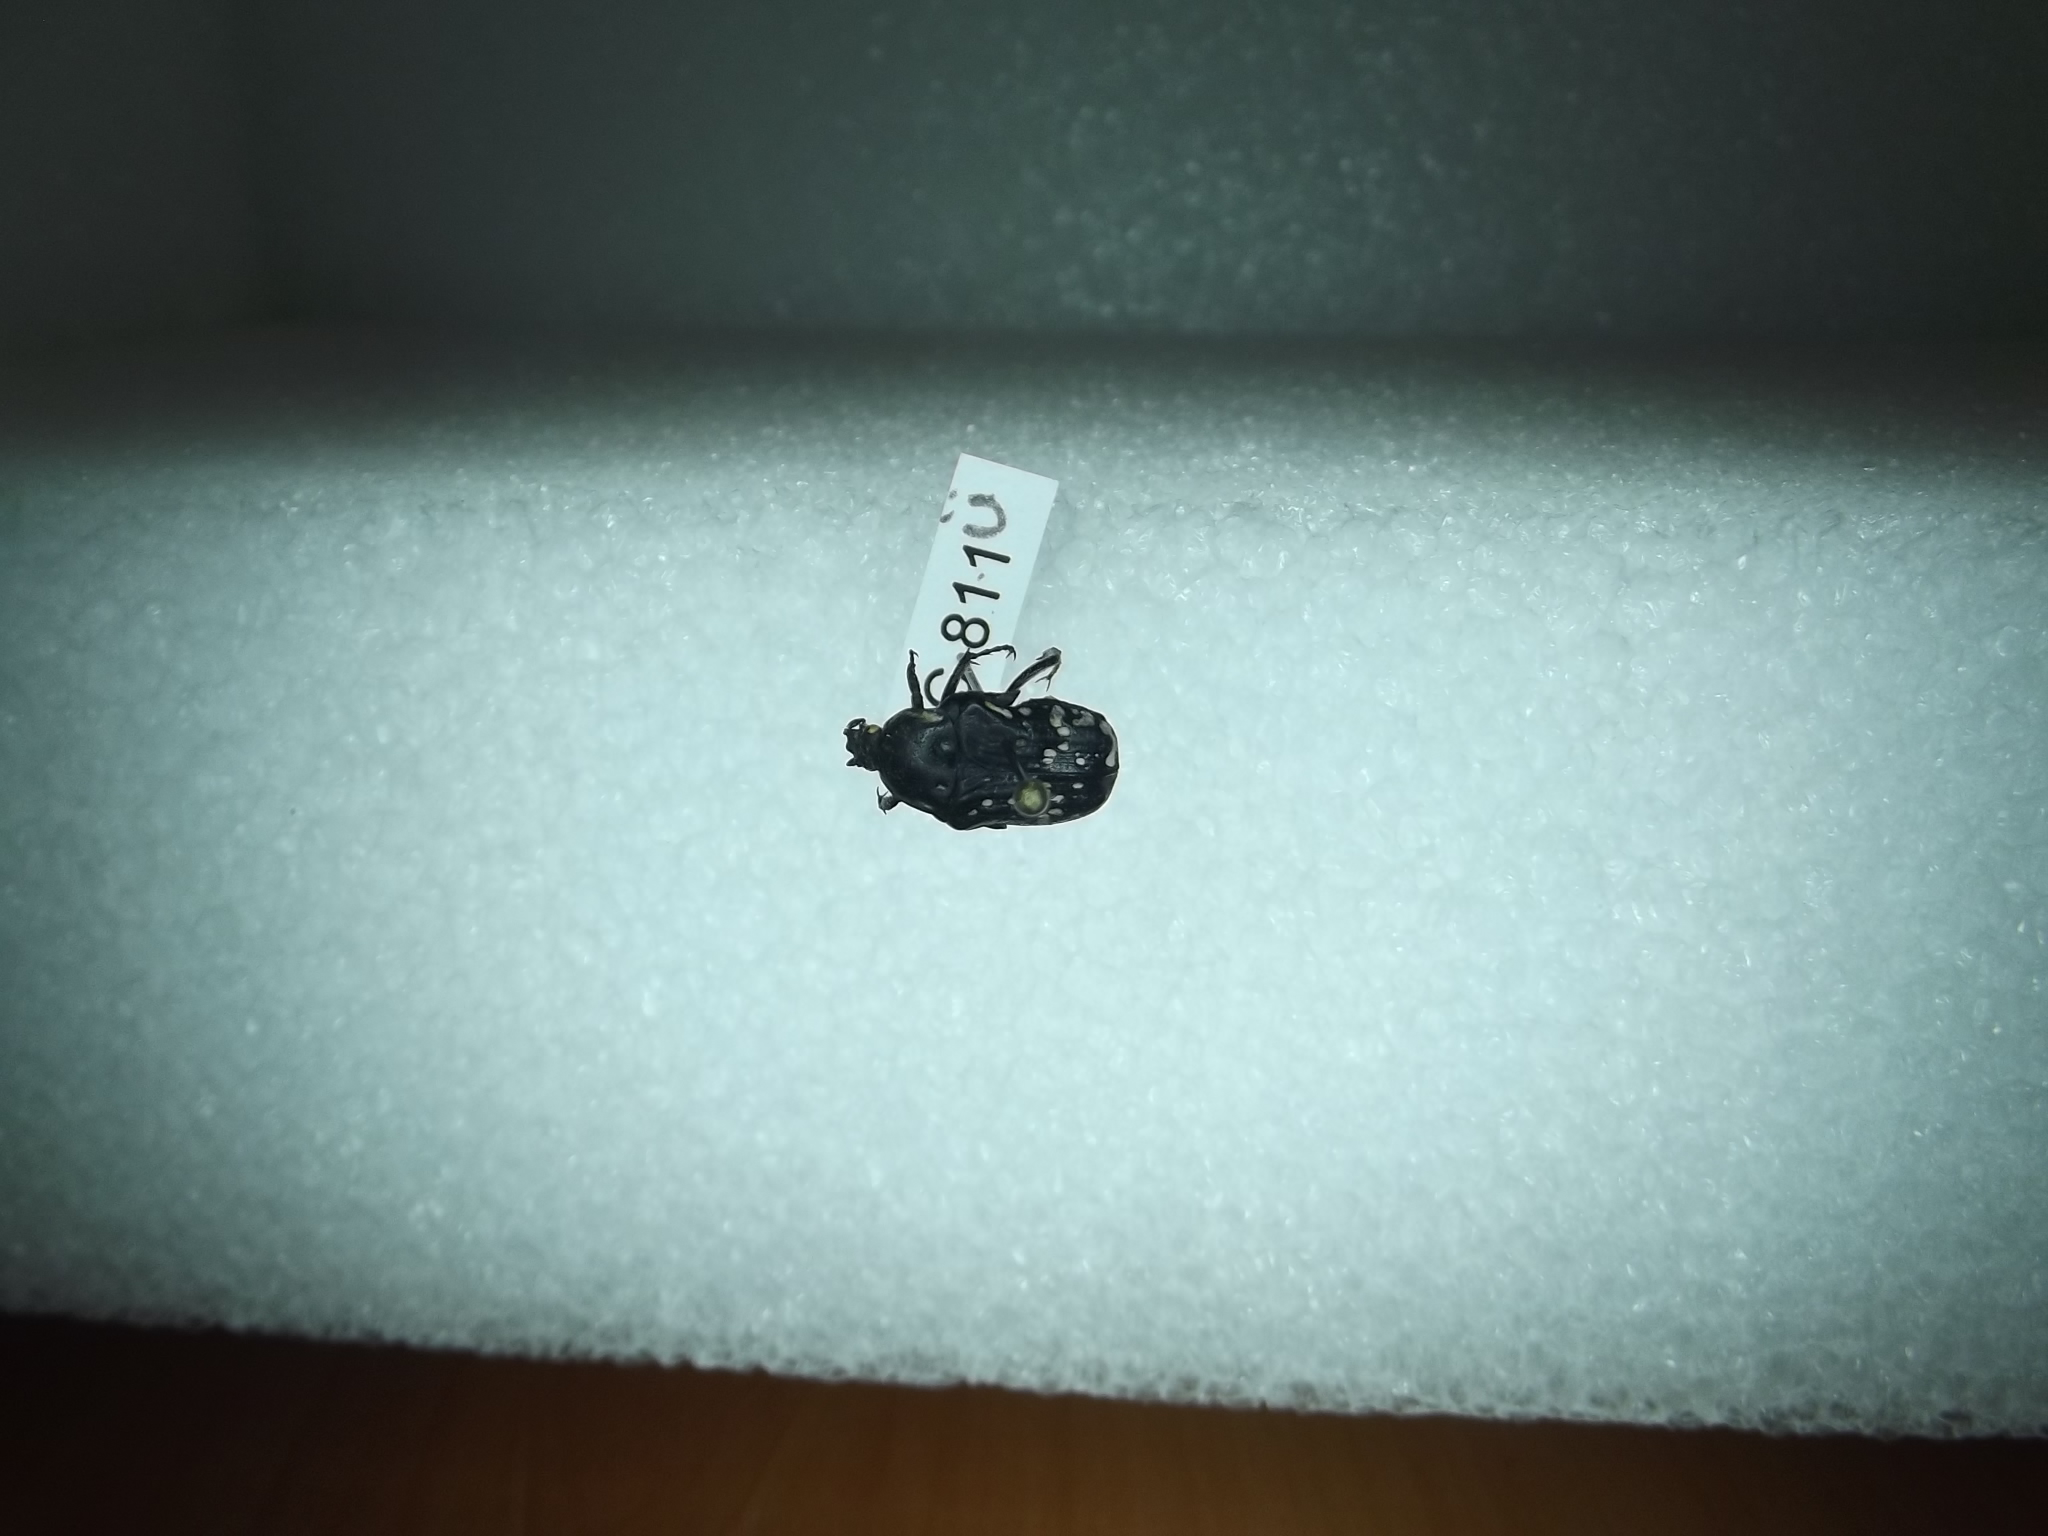Oxythyrea_albopicta: (834, 641, 1121, 845)
